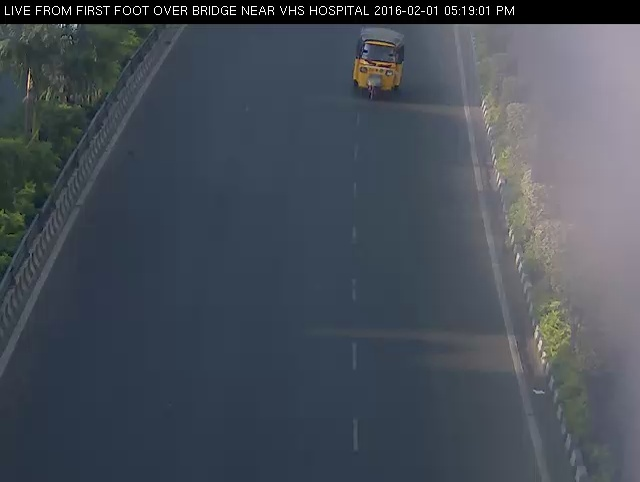Auto: (346, 24, 414, 106)
